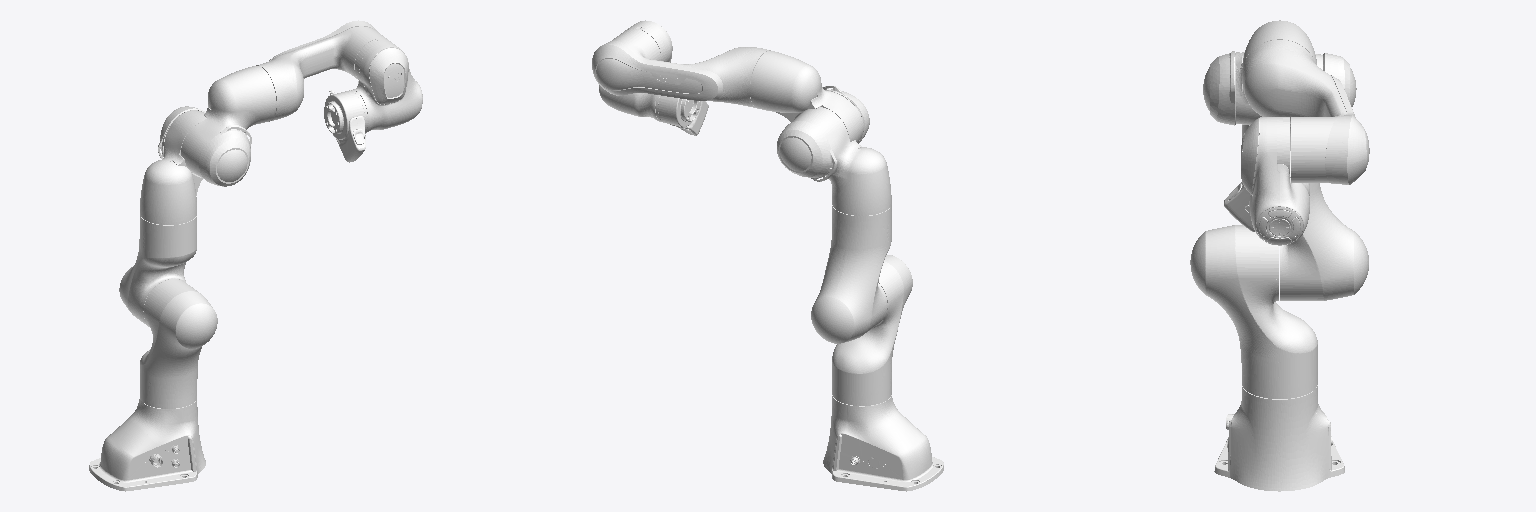
robot.urdf — panda:
<?xml version="1.0" ?>
<!-- =================================================================================== -->
<!-- |    This document was autogenerated by xacro from panda_arm_hand.urdf.xacro      | -->
<!-- |    EDITING THIS FILE BY HAND IS NOT RECOMMENDED                                 | -->
<!-- =================================================================================== -->
<robot name="panda" xmlns:xacro="http://www.ros.org/wiki/xacro">

    <material name="white">
        <color rgba="1.0 1.0 1.0 1.0"/>
      </material>

    <link name="panda_link0">
        <inertial>
            <origin rpy="0 0 0" xyz="0 0 0.05"/>
            <mass value="2.9"/>
            <inertia ixx="0.1" ixy="0" ixz="0" iyy="0.1" iyz="0" izz="0.1"/>
        </inertial>
        <visual>
            <geometry>
                <mesh filename="package://robots/franka_panda/meshes/visual/link0.dae"/>
            </geometry>
            <material name="white"/>
        </visual>
        <collision>
            <geometry>
                <mesh filename="package://robots/franka_panda/meshes/collision/link0.stl"/>
            </geometry>
            <material name="white"/>
        </collision>
    </link>
    <link name="panda_link1">
        <inertial>
            <origin rpy="0 0 0" xyz="0 -0.04 -0.05"/>
            <mass value="2.7"/>
            <inertia ixx="0.1" ixy="0" ixz="0" iyy="0.1" iyz="0" izz="0.1"/>
        </inertial>
        <visual>
            <geometry>
                <mesh filename="package://robots/franka_panda/meshes/visual/link1.dae"/>
            </geometry>
            <material name="white"/>
        </visual>
        <collision>
            <geometry>
                <mesh filename="package://robots/franka_panda/meshes/collision/link1.stl"/>
            </geometry>
            <material name="white"/>
        </collision>
    </link>
    <joint name="panda_joint1" type="revolute">
        <safety_controller k_position="100.0" k_velocity="40.0" soft_lower_limit="-2.8973" soft_upper_limit="2.8973"/>
        <origin rpy="0 0 0" xyz="0 0 0.333"/>
        <parent link="panda_link0"/>
        <child link="panda_link1"/>
        <axis xyz="0 0 1"/>
        <limit effort="87" lower="-2.88" upper="2.88" velocity="2.1750"/>
    </joint>
    <link name="panda_link2">
        <inertial>
            <origin rpy="0 0 0" xyz="0 -0.04 0.06"/>
            <mass value="2.73"/>
            <inertia ixx="0.1" ixy="0" ixz="0" iyy="0.1" iyz="0" izz="0.1"/>
        </inertial>
        <visual>
            <geometry>
                <mesh filename="package://robots/franka_panda/meshes/visual/link2.dae"/>
            </geometry>
            <material name="white"/>
        </visual>
        <collision>
            <geometry>
                <mesh filename="package://robots/franka_panda/meshes/collision/link2.stl"/>
            </geometry>
            <material name="white"/>
        </collision>
    </link>
    <joint name="panda_joint2" type="revolute">
        <safety_controller k_position="100.0" k_velocity="40.0" soft_lower_limit="-1.7628" soft_upper_limit="1.7628"/>
        <origin rpy="-1.57079632679 0 0" xyz="0 0 0"/>
        <parent link="panda_link1"/>
        <child link="panda_link2"/>
        <axis xyz="0 0 1"/>
        <limit effort="87" lower="-1.7628" upper="1.7628" velocity="2.1750"/>
    </joint>
    <link name="panda_link3">
        <inertial>
            <origin rpy="0 0 0" xyz="0.01 0.01 -0.05"/>
            <mass value="2.04"/>
            <inertia ixx="0.1" ixy="0" ixz="0" iyy="0.1" iyz="0" izz="0.1"/>
        </inertial>
        <visual>
            <geometry>
                <mesh filename="package://robots/franka_panda/meshes/visual/link3.dae"/>
            </geometry>
            <material name="white"/>
        </visual>
        <collision>
            <geometry>
                <mesh filename="package://robots/franka_panda/meshes/collision/link3.stl"/>
            </geometry>
            <material name="white"/>
        </collision>
    </link>
    <joint name="panda_joint3" type="revolute">
        <safety_controller k_position="100.0" k_velocity="40.0" soft_lower_limit="-2.8973" soft_upper_limit="2.8973"/>
        <origin rpy="1.57079632679 0 0" xyz="0 -0.316 0"/>
        <parent link="panda_link2"/>
        <child link="panda_link3"/>
        <axis xyz="0 0 1"/>
        <limit effort="87" lower="-2.8973" upper="2.8973" velocity="2.1750"/>
    </joint>
    <link name="panda_link4">
        <inertial>
            <origin rpy="0 0 0" xyz="-0.03 0.03 0.02"/>
            <mass value="2.08"/>
            <inertia ixx="0.1" ixy="0" ixz="0" iyy="0.1" iyz="0" izz="0.1"/>
        </inertial>
        <visual>
            <geometry>
                <mesh filename="package://robots/franka_panda/meshes/visual/link4.dae"/>
            </geometry>
            <material name="white"/>
        </visual>
        <collision>
            <geometry>
                <mesh filename="package://robots/franka_panda/meshes/collision/link4.stl"/>
            </geometry>
            <material name="white"/>
        </collision>
    </link>
    <joint name="panda_joint4" type="revolute">
        <safety_controller k_position="100.0" k_velocity="40.0" soft_lower_limit="-3.0718" soft_upper_limit="-0.0698"/>
        <origin rpy="1.57079632679 0 0" xyz="0.0825 0 0"/>
        <parent link="panda_link3"/>
        <child link="panda_link4"/>
        <axis xyz="0 0 1"/>
        <limit effort="87" lower="-3.0718" upper="-0.0698" velocity="2.1750"/>
    </joint>
    <link name="panda_link5">
        <inertial>
            <origin rpy="0 0 0" xyz="0 0.04 -0.12"/>
            <mass value="3"/>
            <inertia ixx="0.1" ixy="0" ixz="0" iyy="0.1" iyz="0" izz="0.1"/>
        </inertial>
        <visual>
            <geometry>
                <mesh filename="package://robots/franka_panda/meshes/visual/link5.dae"/>
            </geometry>
            <material name="white"/>
        </visual>
        <collision>
            <geometry>
                <mesh filename="package://robots/franka_panda/meshes/collision/link5.stl"/>
            </geometry>
            <material name="white"/>
        </collision>
    </link>
    <joint name="panda_joint5" type="revolute">
        <safety_controller k_position="100.0" k_velocity="40.0" soft_lower_limit="-2.8973" soft_upper_limit="2.8973"/>
        <origin rpy="-1.57079632679 0 0" xyz="-0.0825 0.384 0"/>
        <parent link="panda_link4"/>
        <child link="panda_link5"/>
        <axis xyz="0 0 1"/>
        <limit effort="12" lower="-2.8973" upper="2.8973" velocity="2.6100"/>
    </joint>
    <link name="panda_link6">
        <inertial>
            <origin rpy="0 0 0" xyz="0.04 0 0"/>
            <mass value="1.3"/>
            <inertia ixx="0.1" ixy="0" ixz="0" iyy="0.1" iyz="0" izz="0.1"/>
        </inertial>
        <visual>
            <geometry>
                <mesh filename="package://robots/franka_panda/meshes/visual/link6.dae"/>
            </geometry>
            <material name="white"/>
        </visual>
        <collision>
            <geometry>
                <mesh filename="package://robots/franka_panda/meshes/collision/link6.stl"/>
            </geometry>
            <material name="white"/>
        </collision>
    </link>
    <joint name="panda_joint6" type="revolute">
        <safety_controller k_position="100.0" k_velocity="40.0" soft_lower_limit="-0.0175" soft_upper_limit="3.7525"/>
        <origin rpy="1.57079632679 0 0" xyz="0 0 0"/>
        <parent link="panda_link5"/>
        <child link="panda_link6"/>
        <axis xyz="0 0 1"/>
        <limit effort="12" lower="-0.0175" upper="3.7525" velocity="2.6100"/>
    </joint>
    <link name="panda_link7">
        <inertial>
            <origin rpy="0 0 0" xyz="0 0 0.08"/>
            <mass value="0.2"/>
            <inertia ixx="0.1" ixy="0" ixz="0" iyy="0.1" iyz="0" izz="0.1"/>
        </inertial>
        <visual>
            <geometry>
                <mesh filename="package://robots/franka_panda/meshes/visual/link7.dae"/>
            </geometry>
            <material name="white"/>
        </visual>
        <collision>
            <geometry>
                <mesh filename="package://robots/franka_panda/meshes/collision/link7.stl"/>
            </geometry>
            <material name="white"/>
        </collision>
    </link>
    <joint name="panda_joint7" type="revolute">
        <safety_controller k_position="100.0" k_velocity="40.0" soft_lower_limit="-2.8973" soft_upper_limit="2.8973"/>
        <origin rpy="1.57079632679 0 0" xyz="0.088 0 0"/>
        <parent link="panda_link6"/>
        <child link="panda_link7"/>
        <axis xyz="0 0 1"/>
        <limit effort="12" lower="-2.8973" upper="2.8973" velocity="2.6100"/>
    </joint>
    <link name="panda_link8">
        <inertial>
            <origin rpy="0 0 0" xyz="0 0 0"/>
            <mass value="0.1"/>
            <inertia ixx="0.1" ixy="0" ixz="0" iyy="0.1" iyz="0" izz="0.1"/>
        </inertial>
    </link>
    <joint name="panda_joint8" type="fixed">
        <origin rpy="0 0 0" xyz="0 0 0.107"/>
        <parent link="panda_link7"/>
        <child link="panda_link8"/>
        <axis xyz="0 0 0"/>
    </joint>
    <joint name="panda_hand_joint" type="fixed">
        <parent link="panda_link8"/>
        <child link="panda_hand"/>
        <origin rpy="0 0 -0.785398163397" xyz="0 0 0"/>
    </joint>
    <link name="panda_hand">
        <inertial>
            <origin rpy="0 0 0" xyz="0 0 0.04"/>
            <mass value="0.81"/>
            <inertia ixx="0.1" ixy="0" ixz="0" iyy="0.1" iyz="0" izz="0.1"/>
        </inertial>
        <visual>
            <geometry>
                <mesh filename="package://robots/franka_panda/meshes/collision/hand.stl"/>
            </geometry>
            <material name="white"/>
        </visual>
        <collision>
            <geometry>
                <mesh filename="package://robots/franka_panda/meshes/collision/hand.stl"/>
            </geometry>
        </collision>
        <material name="white"/>
    </link>
    <link name="panda_leftfinger">
        <inertial>
            <origin rpy="0 0 0" xyz="0 0.01 0.02"/>
            <mass value="0.1"/>
            <inertia ixx="0.1" ixy="0" ixz="0" iyy="0.1" iyz="0" izz="0.1"/>
        </inertial>
        <visual>
            <geometry>
                <mesh filename="package://robots/franka_panda/meshes/collision/finger.stl"/>
            </geometry>
            <material name="white"/>
        </visual>
        <collision>
            <geometry>
                <mesh filename="package://robots/franka_panda/meshes/collision/finger.stl"/>
            </geometry>
        </collision>
        <material name="white"/>
    </link>
    <link name="panda_rightfinger">
        <inertial>
            <origin rpy="0 0 0" xyz="0 -0.01 0.02"/>
            <mass value="0.1"/>
            <inertia ixx="0.1" ixy="0" ixz="0" iyy="0.1" iyz="0" izz="0.1"/>
        </inertial>
        <visual>
            <origin rpy="0 0 3.14159265359" xyz="0 0 0"/>
            <geometry>
                <mesh filename="package://robots/franka_panda/meshes/collision/finger.stl"/>
            </geometry>
            <material name="white"/>
        </visual>
        <collision>
            <origin rpy="0 0 3.14159265359" xyz="0 0 0"/>
            <geometry>
                <mesh filename="package://robots/franka_panda/meshes/collision/finger.stl"/>
            </geometry>
        </collision>
        <material name="white"/>
    </link>
    <joint name="panda_finger_joint1" type="prismatic">
        <parent link="panda_hand"/>
        <child link="panda_leftfinger"/>
        <origin rpy="0 0 0" xyz="0 0 0.0584"/>
        <axis xyz="0 1 0"/>
        <limit effort="20" lower="0.0" upper="0.04" velocity="0.2"/>
    </joint>
    <joint name="panda_finger_joint2" type="prismatic">
        <parent link="panda_hand"/>
        <child link="panda_rightfinger"/>
        <origin rpy="0 0 0" xyz="0 0 0.0584"/>
        <axis xyz="0 -1 0"/>
        <limit effort="20" lower="0.0" upper="0.04" velocity="0.2"/>
        <mimic joint="panda_finger_joint1"/>
    </joint>
</robot>

--- Facts derived from the render (not from the file) ---
3 views of the same robot in one strip: view 1: azimuth 30°, elevation 25°; view 2: azimuth 150°, elevation 25°; view 3: azimuth 270°, elevation 25° (orthographic).
Model panda with 12 links and 11 joints (7 revolute, 2 prismatic, 2 fixed), rooted at panda_link0, posed all joints at 0 but 1 set to mid-range because 0 is outside their limits (panda_joint4 = -1.57).
Visible links, largest first — view 1: panda_link0, panda_link1, panda_link4, panda_link3, panda_link5, panda_link6, panda_link2, panda_link7; view 2: panda_link0, panda_link5, panda_link2, panda_link3, panda_link1, panda_link4, panda_link6, panda_link7; view 3: panda_link1, panda_link5, panda_link0, panda_link2, panda_link6, panda_link4, panda_link3, panda_link7.
Boxes of the visible links, x1,y1,x2,y2 form: panda_link0: (89,399,205,491); panda_link1: (140,279,217,408); panda_link4: (181,66,276,186); panda_link3: (140,106,206,224); panda_link5: (256,20,387,121); panda_link6: (353,39,422,133); panda_link2: (119,216,196,326); panda_link7: (324,90,367,162); panda_link0: (823,395,943,491); panda_link5: (592,29,770,107); panda_link2: (811,205,891,343); panda_link3: (777,107,891,215); panda_link1: (832,255,912,405); panda_link4: (750,51,869,143); panda_link6: (599,20,672,121); panda_link7: (655,95,708,135); panda_link1: (1190,225,1317,398); panda_link5: (1242,40,1369,184); panda_link0: (1214,385,1344,491); panda_link2: (1280,183,1368,300); panda_link6: (1241,117,1309,245); panda_link4: (1203,20,1316,125); panda_link3: (1242,53,1356,150); panda_link7: (1224,151,1309,231).
Size in the robot's own frame: 0.7022 by 0.2593 by 0.7865 metres.
Meshes: 10 distinct files referenced, 8 mesh visuals loaded (8 Collada DAE); not drawn: 3 (reference not matched to a file when rendering).